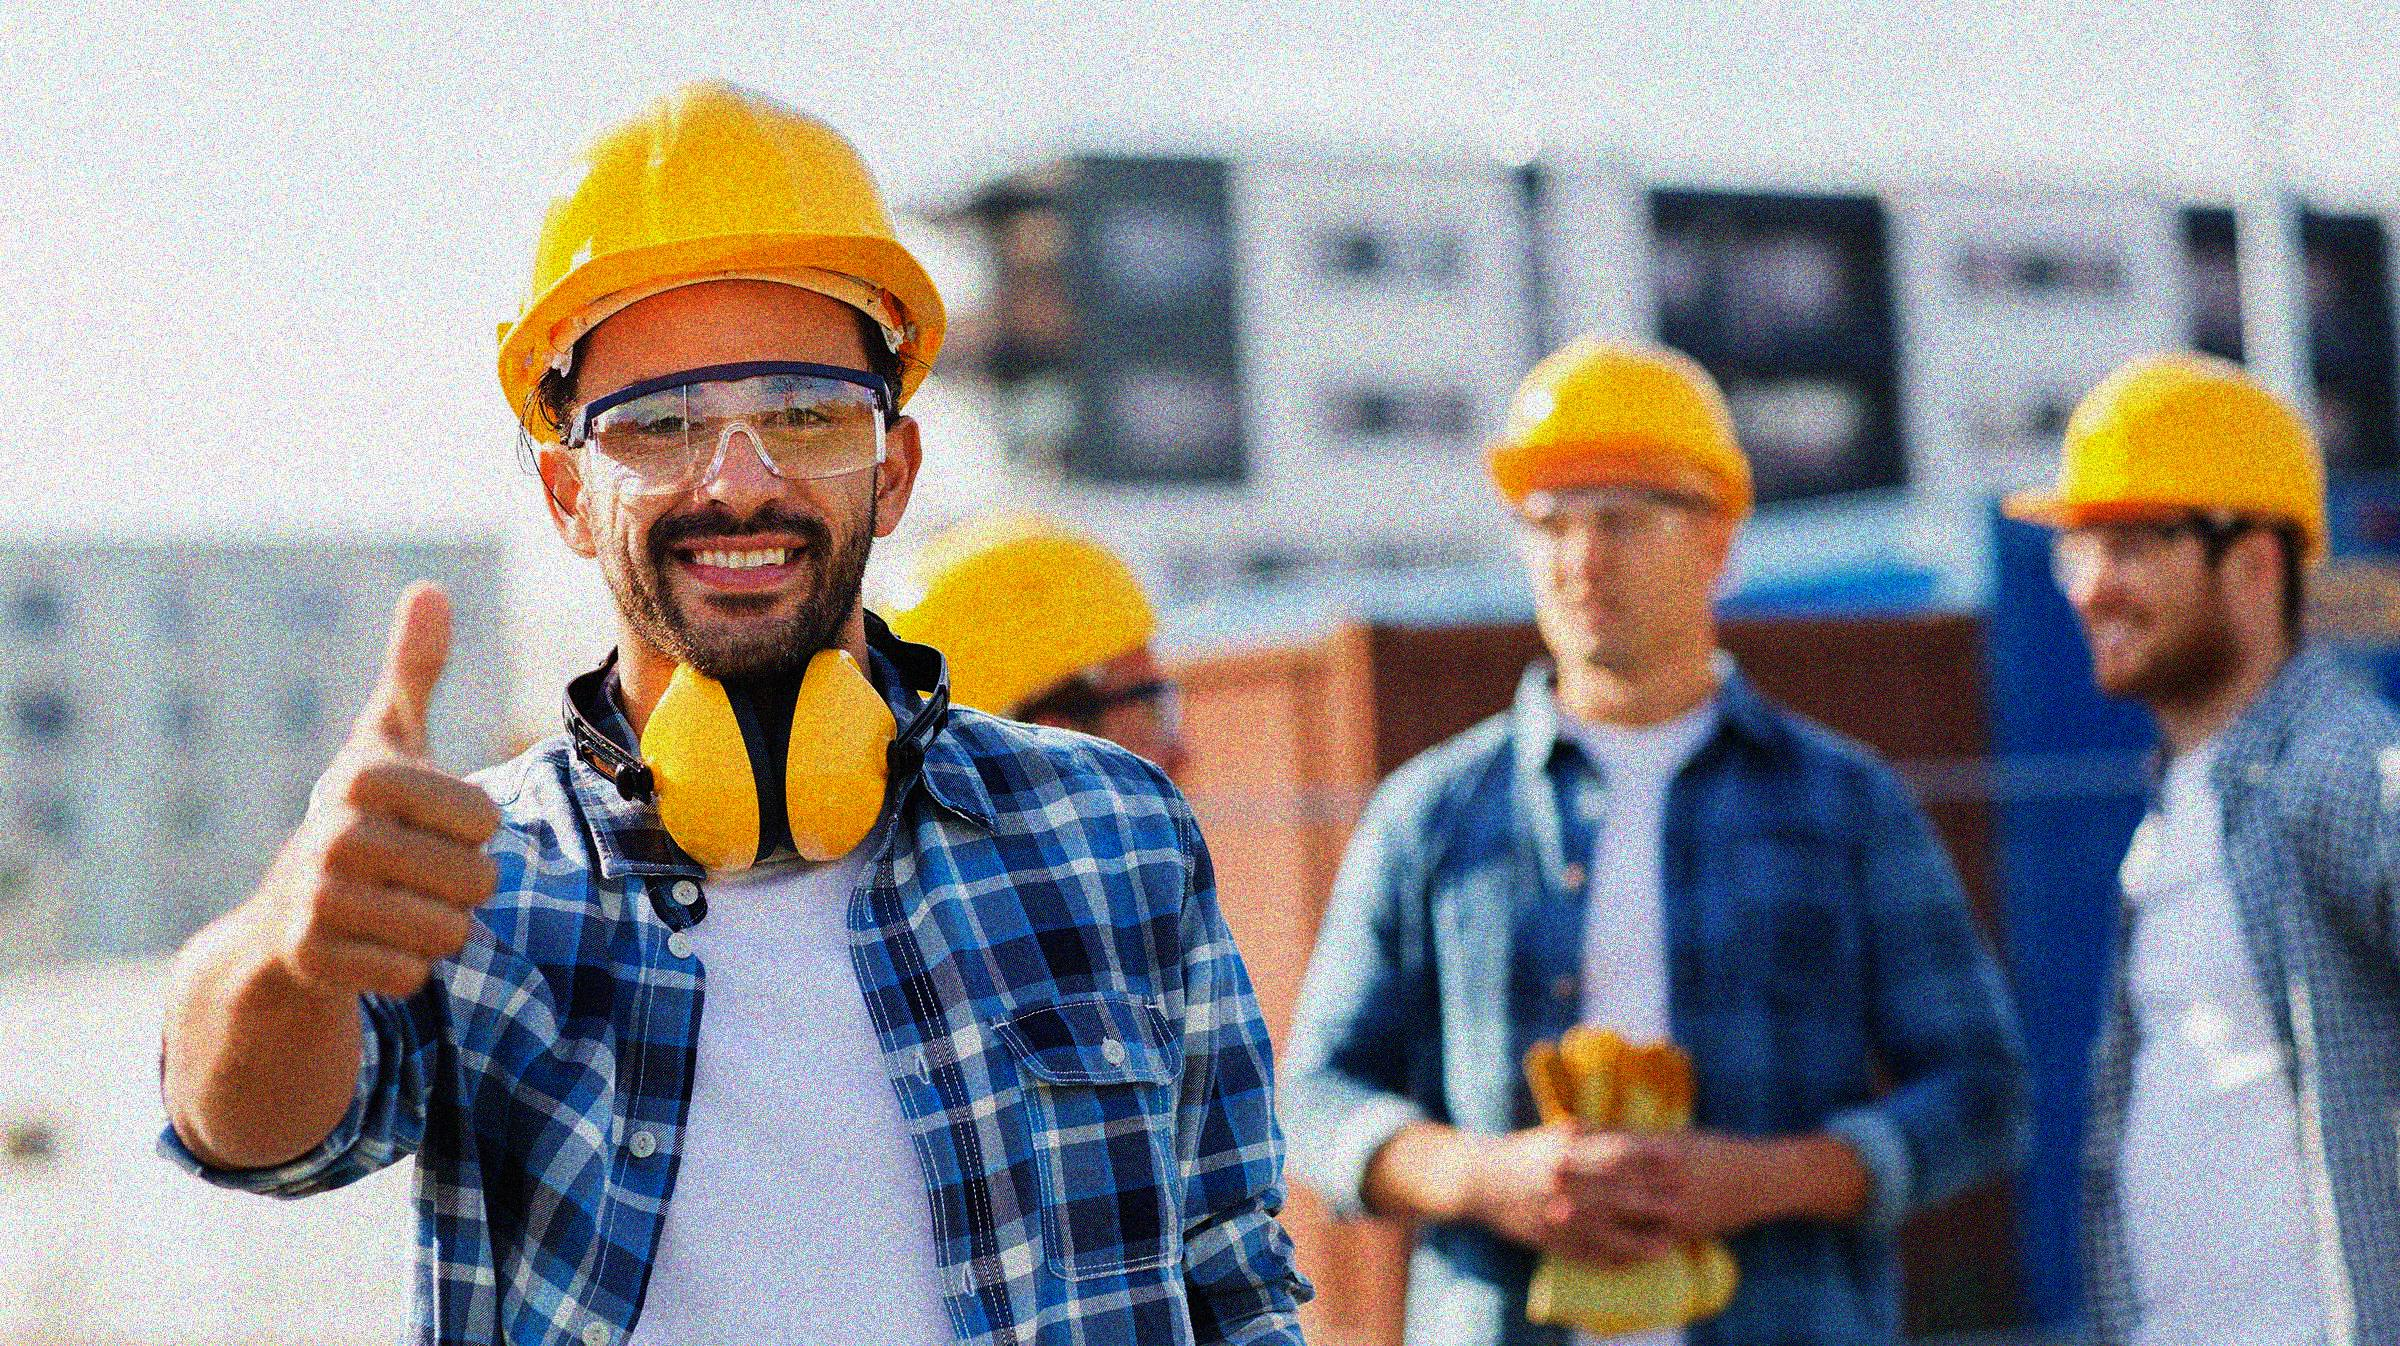helmet: (495, 72, 946, 674), (1998, 346, 2321, 700), (1480, 323, 1755, 674), (879, 499, 1174, 788)
